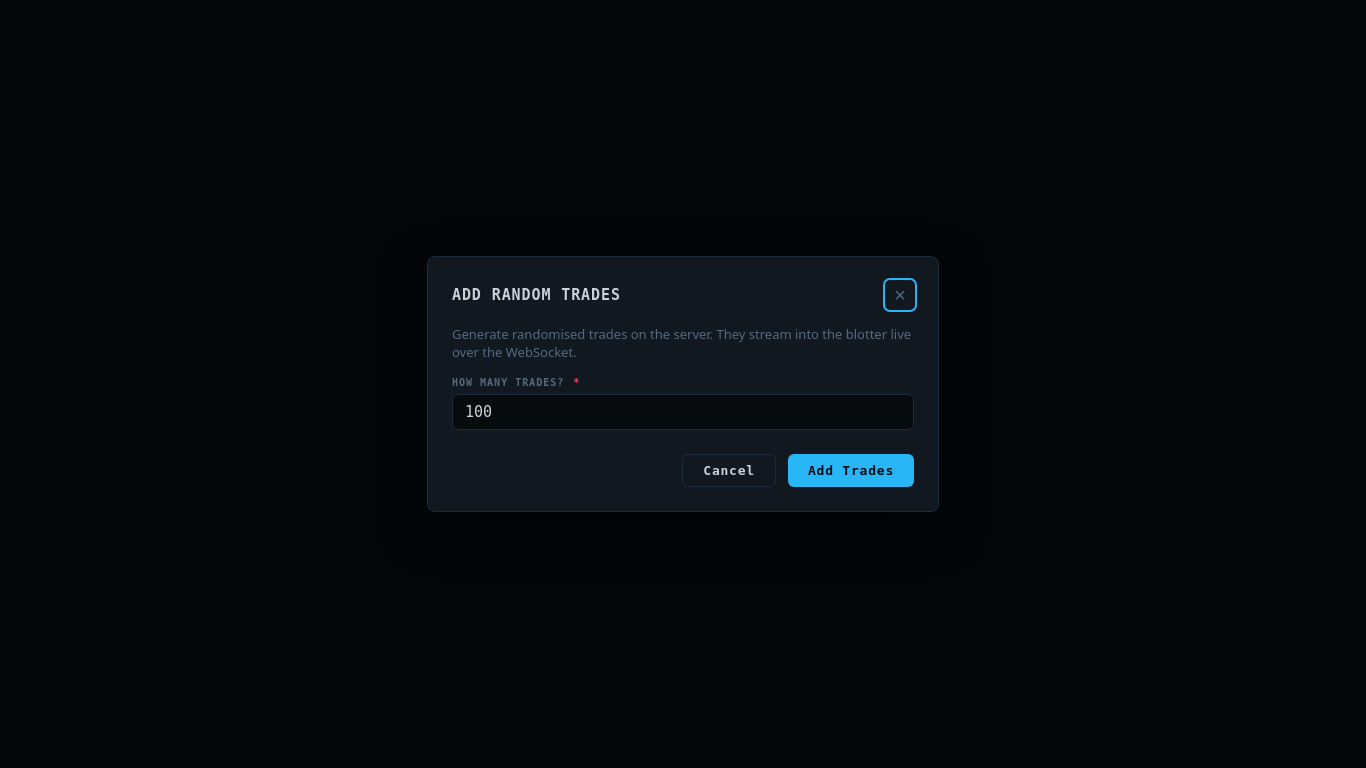
AddRandomTradesModal › disables submit and shows an inline error for an invalid count
Replace the text in the number field labelled "How many trades? *" with "0" at [683, 412], box 452,394 -> 914,430
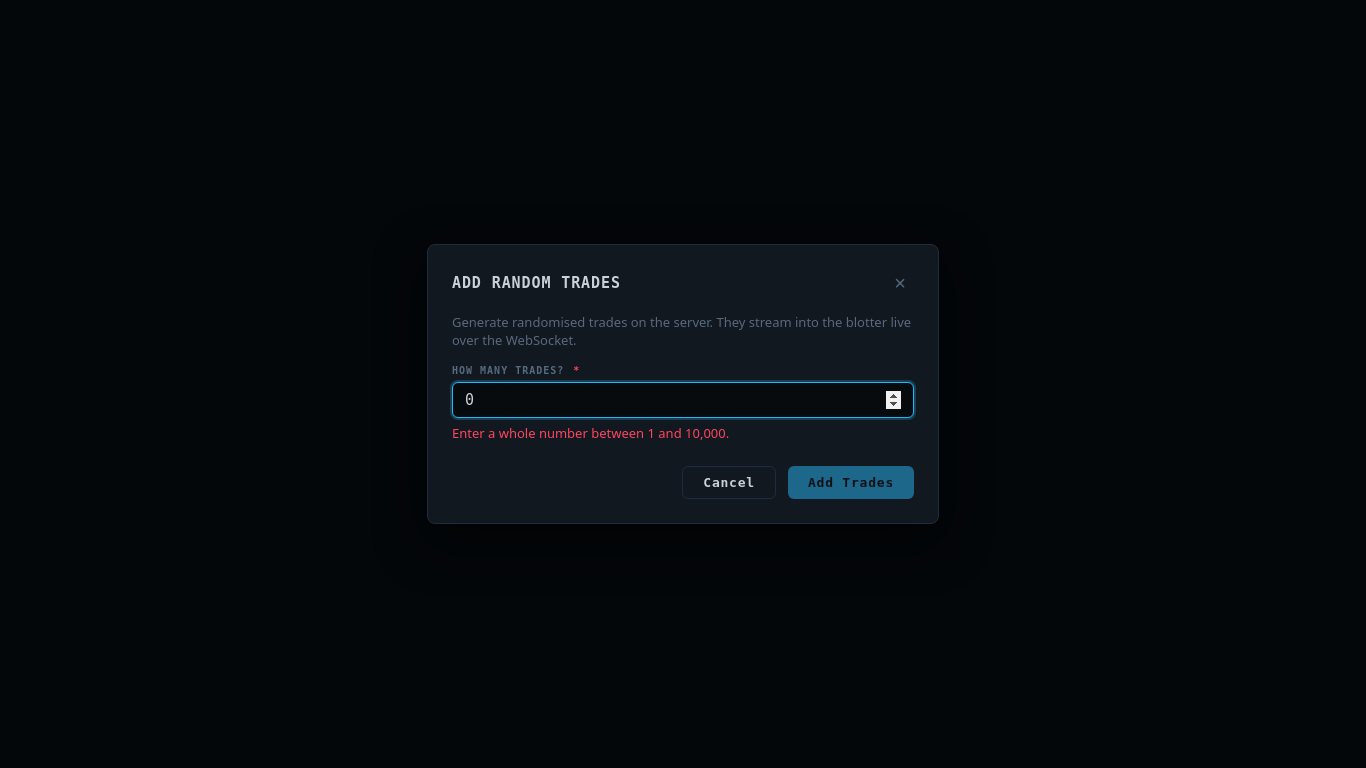
Expected: the button "Add Trades" is disabled, 788,466 -> 914,499
Expected: the text "Enter a whole number between 1 and 10,000." is shown, 452,424 -> 729,442
